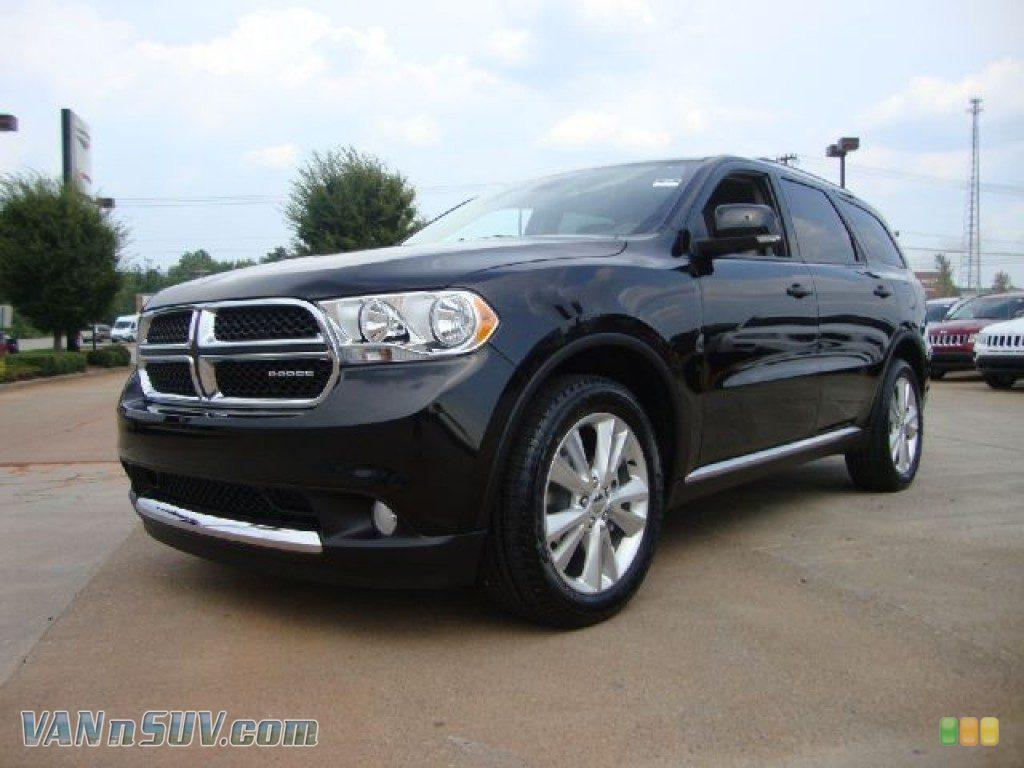dodge: (261, 363, 326, 384)
